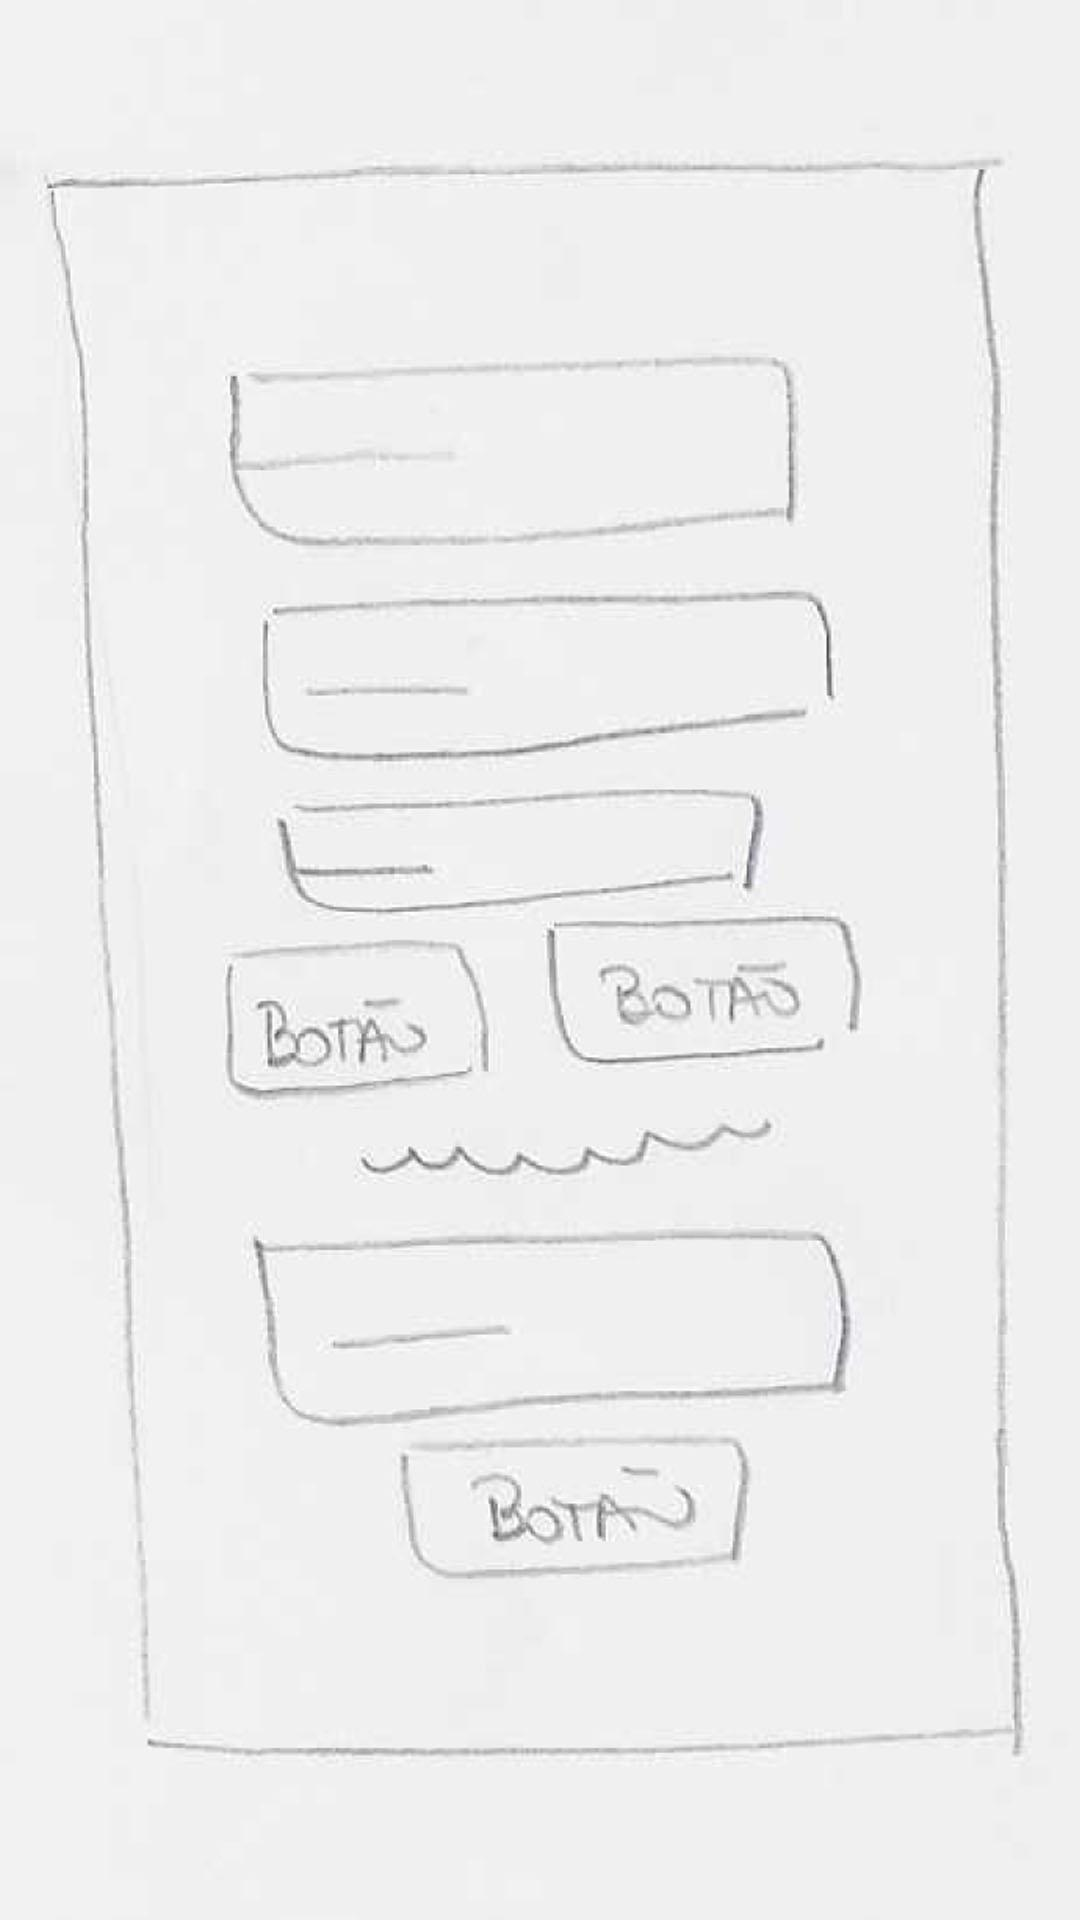Button: (400, 1443, 750, 1577), (547, 920, 858, 1067), (223, 942, 489, 1100)
Label: (361, 1118, 771, 1179)
Screen: (47, 164, 1022, 1760)
TextBox: (255, 1240, 848, 1425), (227, 364, 794, 546), (260, 593, 831, 760), (280, 790, 762, 915)
